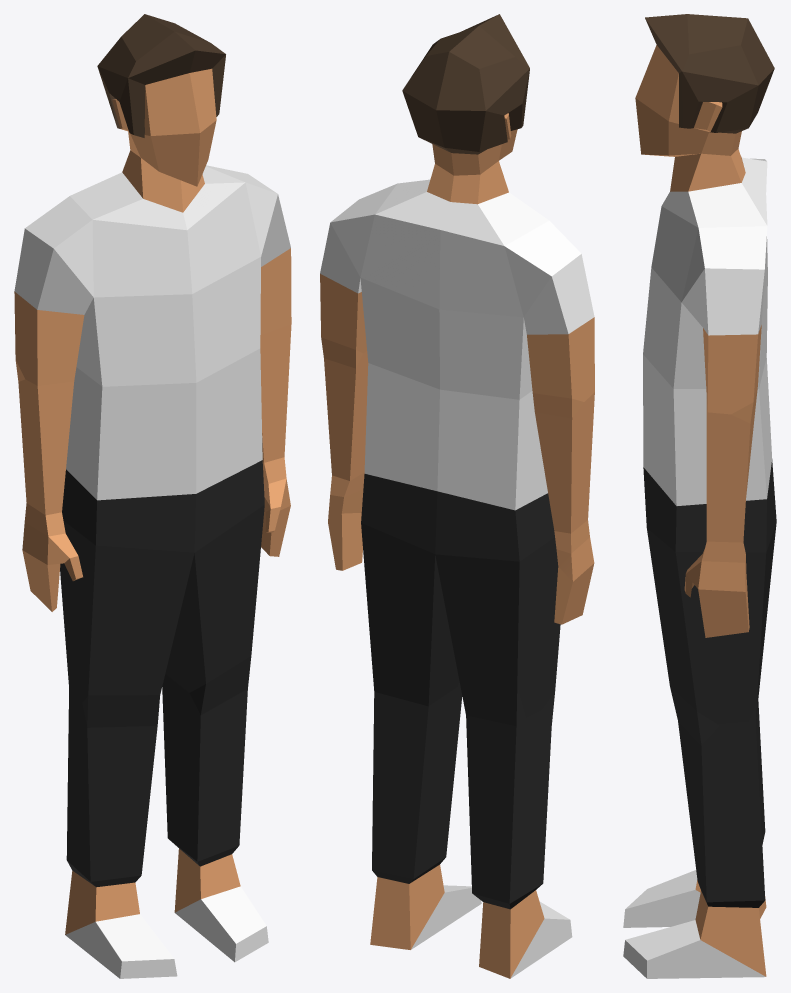
The model's file is man-shirt.fbx.
3 renders of one model, left to right at view 1: azimuth 30°, elevation 25°; view 2: azimuth 150°, elevation 25°; view 3: azimuth 270°, elevation 25°, orthographic. The views are drawn at different scales.
Parts seen in each view (by area): view 1: man-shirt; view 2: man-shirt; view 3: man-shirt.
Boxes of the visible parts, x1=… form: man-shirt: x1=14, y1=14, x2=291, y2=978; man-shirt: x1=320, y1=14, x2=594, y2=978; man-shirt: x1=623, y1=14, x2=776, y2=978.
Bounding box in the file's own units: 53.48 × 183 × 27.41.
